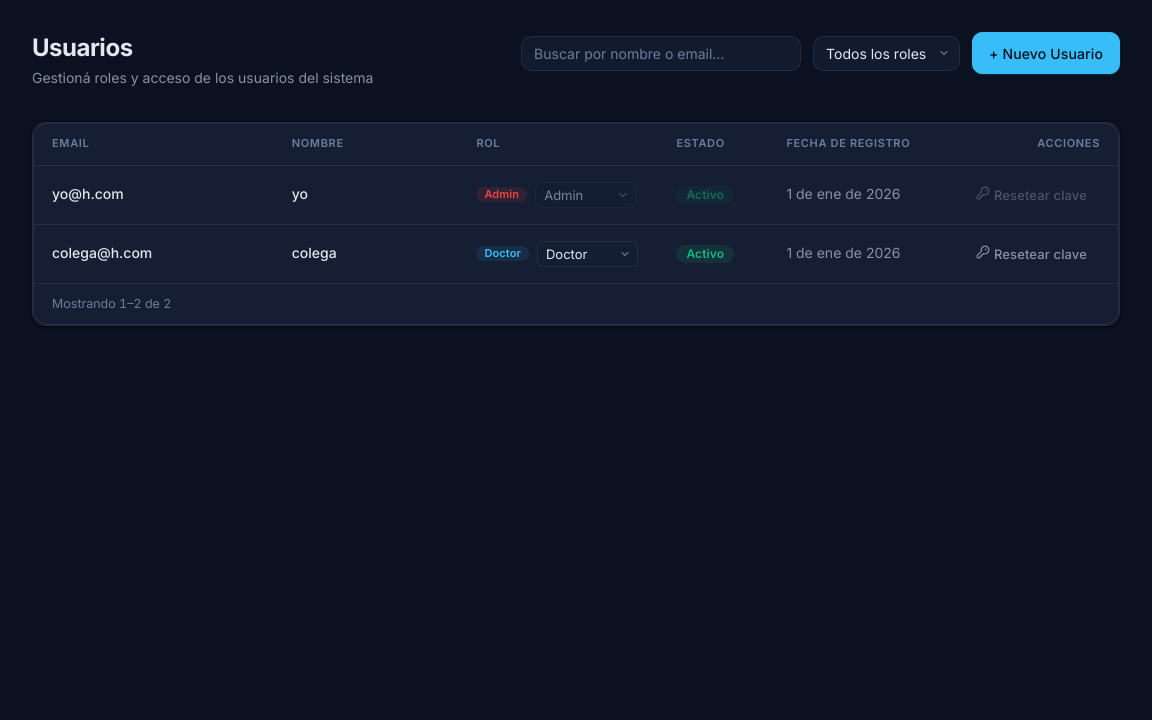
Scenario: UsersPage — la clave temporal › se muestra una sola vez, junto al mail de quien la va a usar
This screenshot has width=1152, height=720.
Click the button "Resetear clave" in the row of "colega@h.com". click: (1032, 254)
box: [963, 237, 1100, 271]
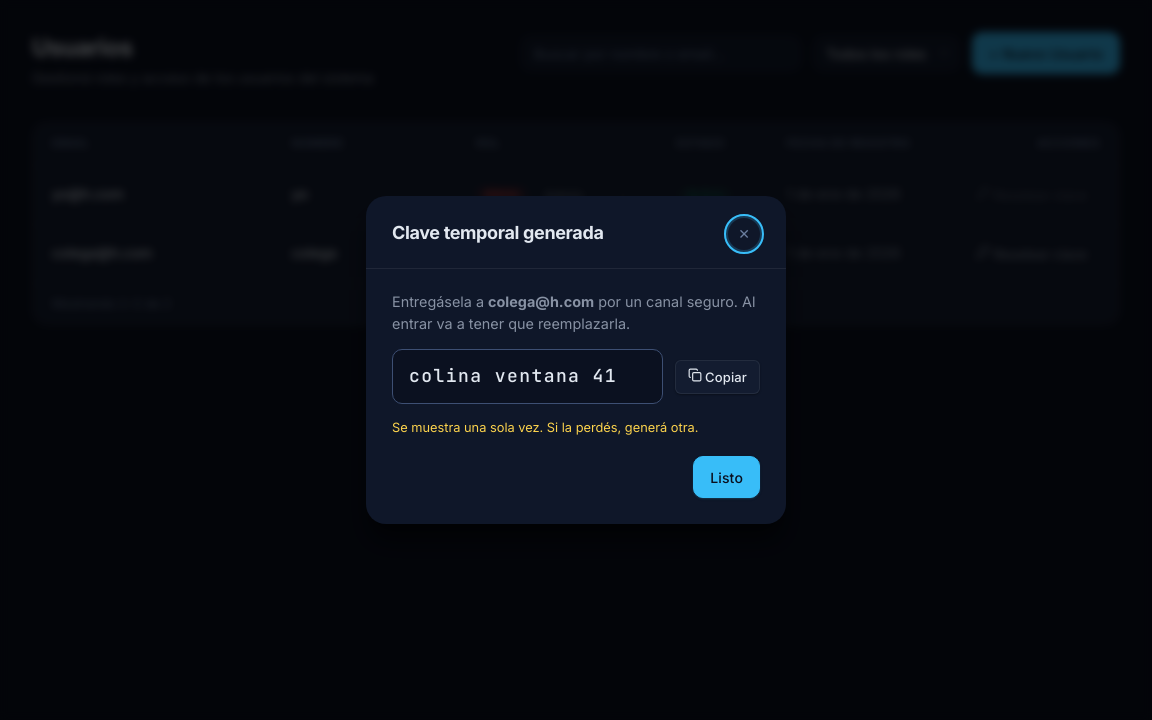
expect the text "colina ventana 41" is shown: met, box [392, 349, 662, 404]
